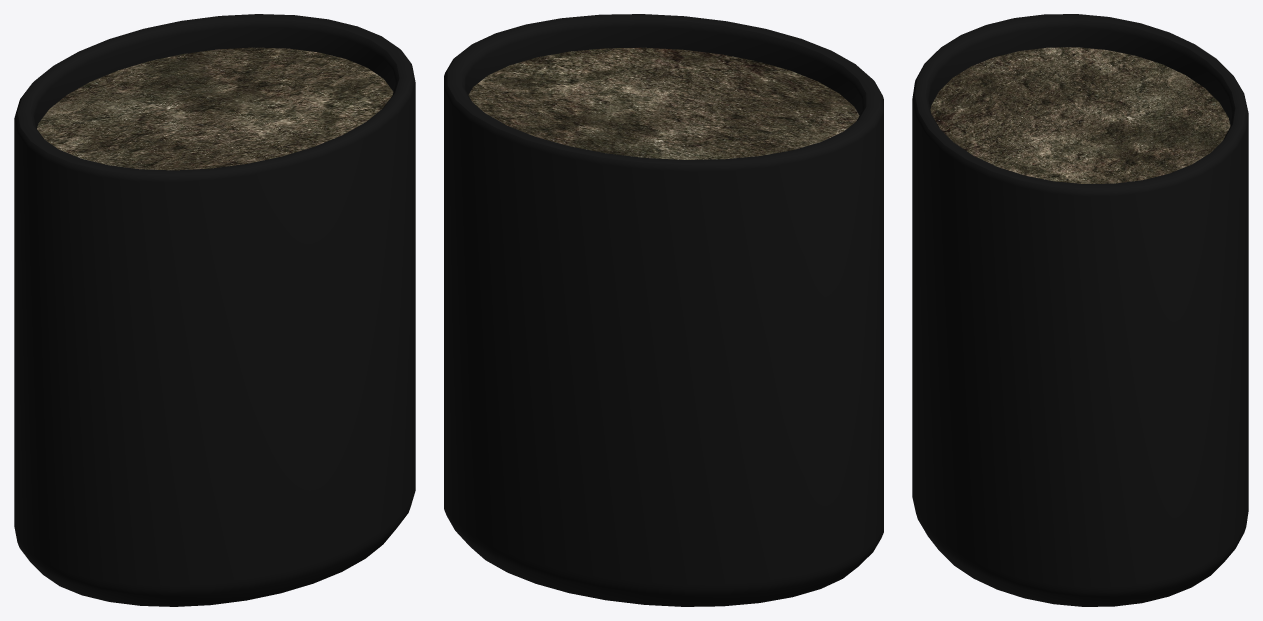
Rendered from Pot.fbx.
3 renders of one model, left to right at view 1: azimuth 30°, elevation 25°; view 2: azimuth 150°, elevation 25°; view 3: azimuth 270°, elevation 25°, orthographic. The views are drawn at different scales.
Parts seen in each view (by area): view 1: Big Monstera plant; view 2: Big Monstera plant; view 3: Big Monstera plant.
Part boxes in pixels (bbox=[...]): Big Monstera plant: bbox=[14, 14, 415, 606]; Big Monstera plant: bbox=[444, 14, 883, 606]; Big Monstera plant: bbox=[912, 14, 1248, 606].
Size of the model in its own units: 52.32 by 57.95 by 41.69.
2 materials, 1 textured.
